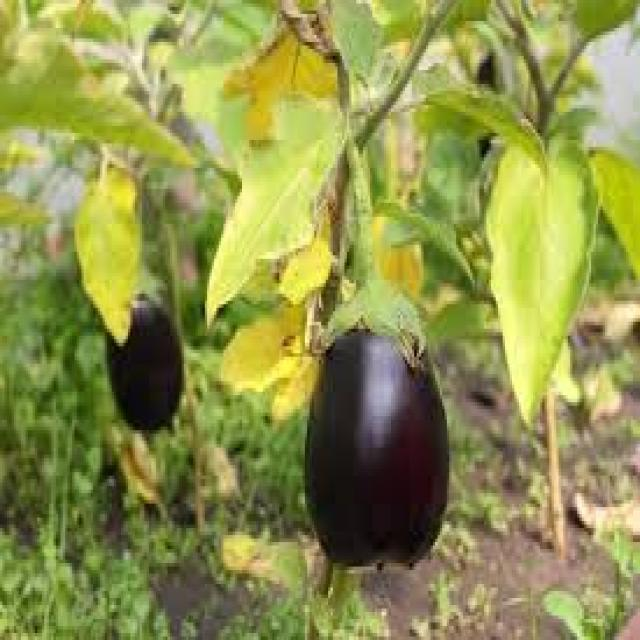Eggplant: (302, 195, 454, 572), (474, 24, 542, 267), (105, 242, 185, 436)
